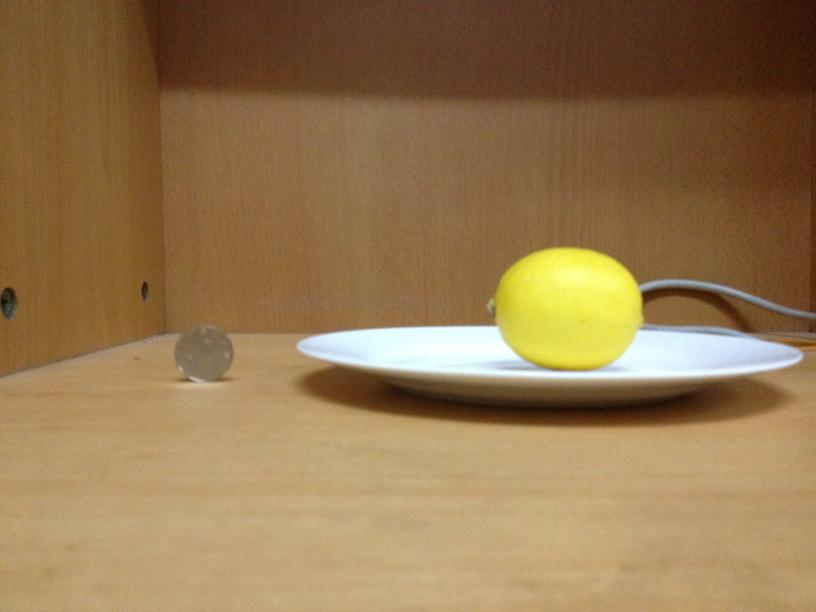coin: (173, 327, 234, 383)
lemon: (494, 248, 644, 371)
